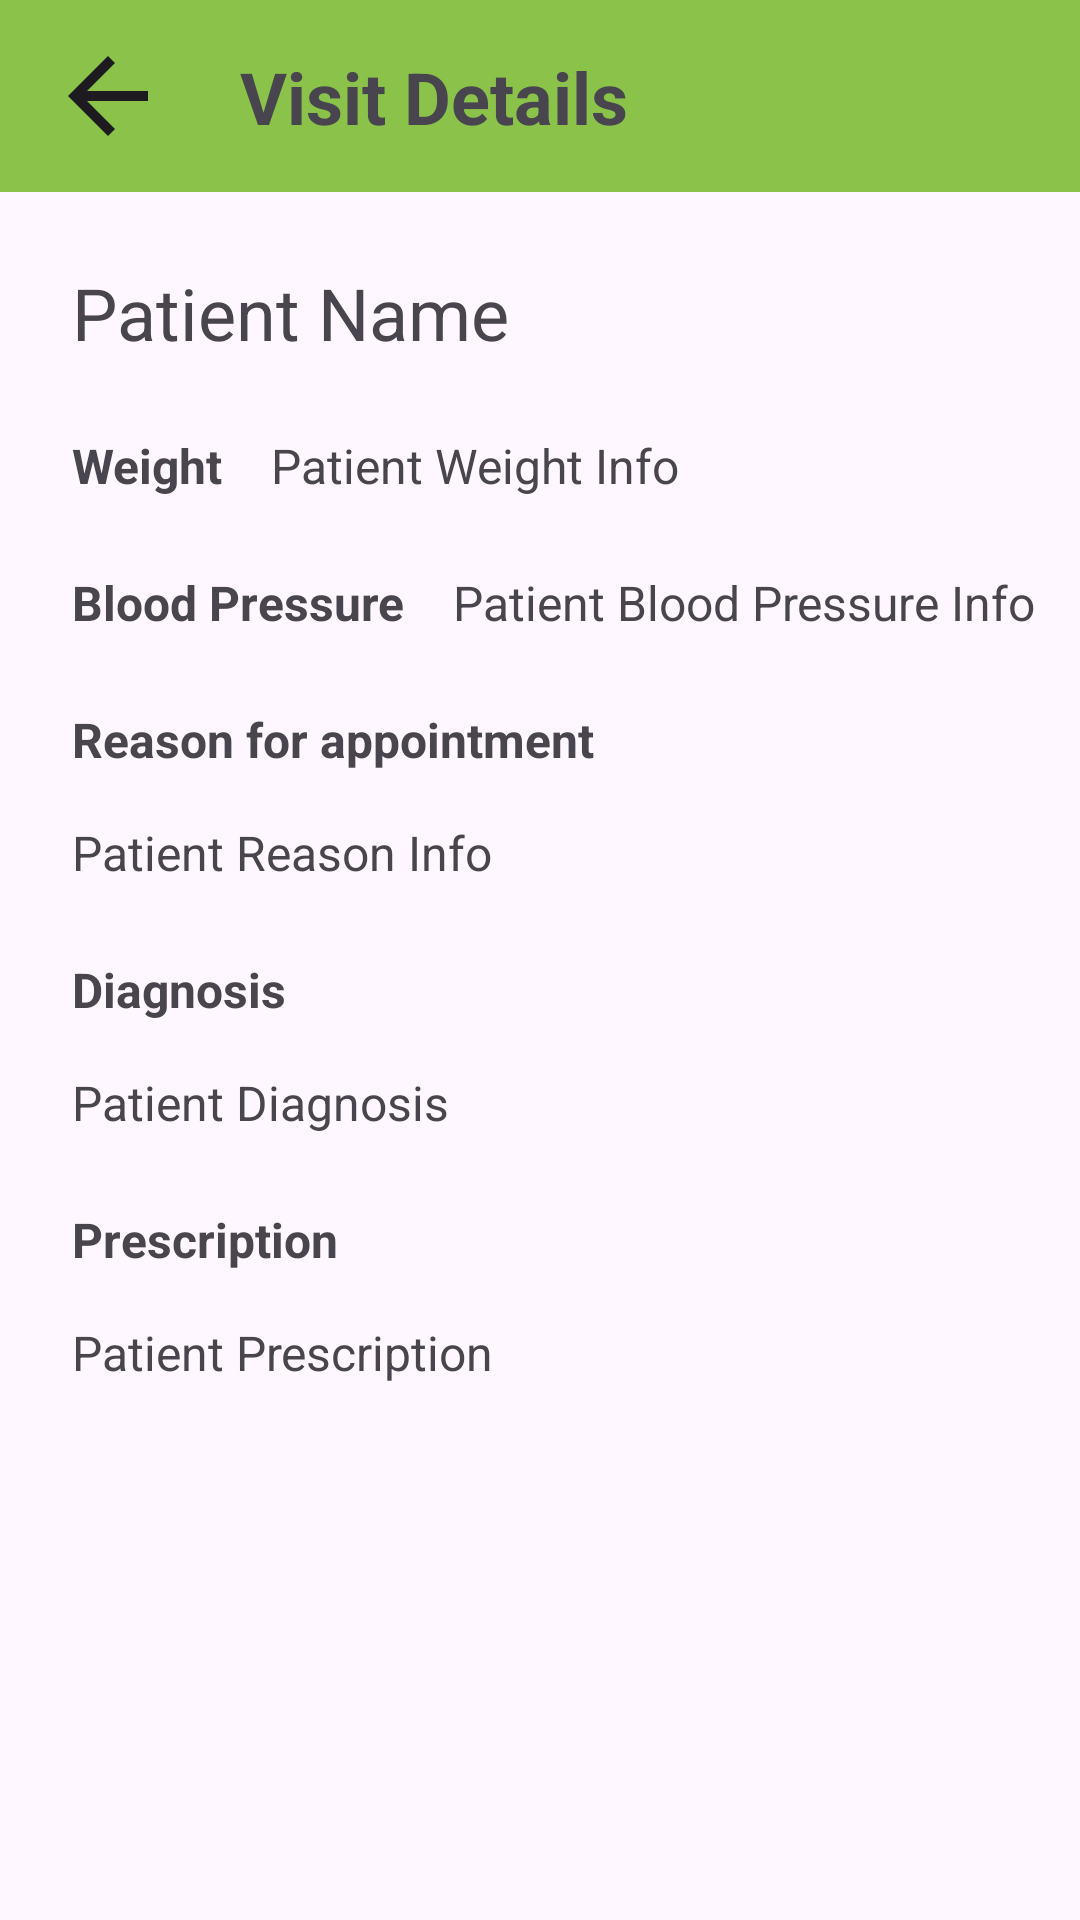

Icon bounding boxes for this 1080 × 1920 phone screenshot, format bbox=(x1, y1, x2, y2):
Back to previous activity: bbox=(68, 56, 148, 136)
